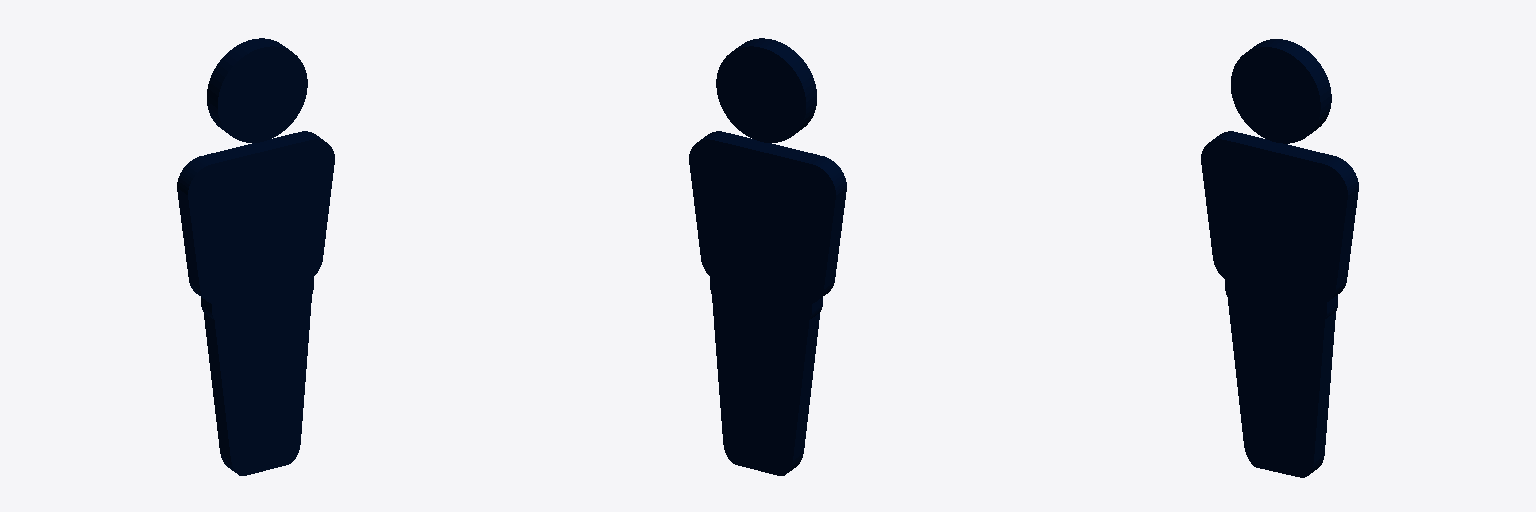
File: person.obj
3 views of the same model, side by side, from view 1: azimuth 30°, elevation 25°; view 2: azimuth 150°, elevation 25°; view 3: azimuth 330°, elevation 25° (orthographic).
Visible parts, largest first — view 1: Curve_CUpath815; view 2: Curve_CUpath815; view 3: Curve_CUpath815.
Boxes of the visible parts, x1=… form: Curve_CUpath815: x1=177, y1=38, x2=334, y2=475; Curve_CUpath815: x1=689, y1=38, x2=846, y2=475; Curve_CUpath815: x1=1201, y1=39, x2=1358, y2=477.
Bounding box in the file's own units: 0.3864 × 1.06 × 0.05.